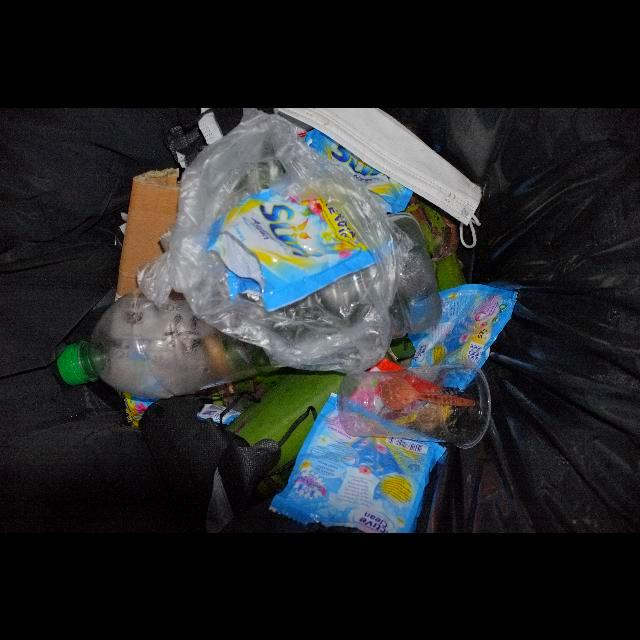cardboard: (115, 167, 180, 301)
plastic_bag: (136, 114, 395, 374)
plastic_bottle: (57, 287, 281, 398)
plastic_sachet: (269, 392, 447, 532), (206, 188, 375, 311), (407, 283, 518, 391)
